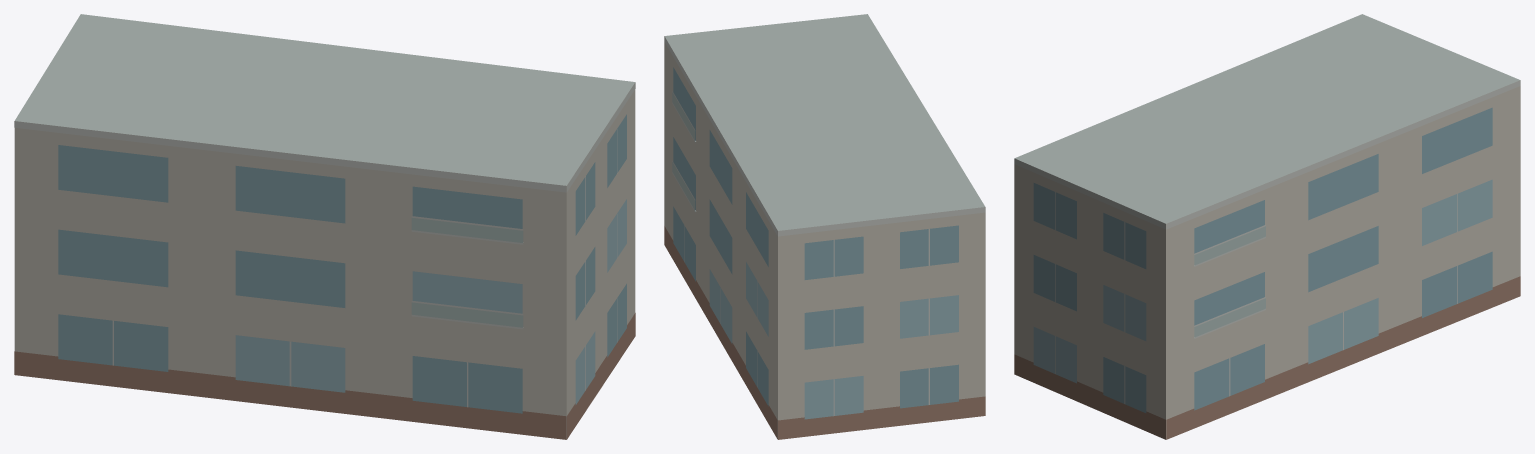
Rendered from survey-upis-32584590.glb.
3 views of the same model, side by side, from view 1: azimuth 30°, elevation 25°; view 2: azimuth 150°, elevation 25°; view 3: azimuth 270°, elevation 25° (orthographic). The views are drawn at different scales.
Parts seen in each view (by area): view 1: survey-upis-32584590.tmp; view 2: survey-upis-32584590.tmp; view 3: survey-upis-32584590.tmp.
Boxes of the visible parts, box(x1,y1,x2,y2) form: survey-upis-32584590.tmp: box(14, 14, 635, 439); survey-upis-32584590.tmp: box(664, 14, 985, 439); survey-upis-32584590.tmp: box(1014, 14, 1520, 439).
Bounding box in the file's own units: 19.07 × 9.15 × 19.44.
